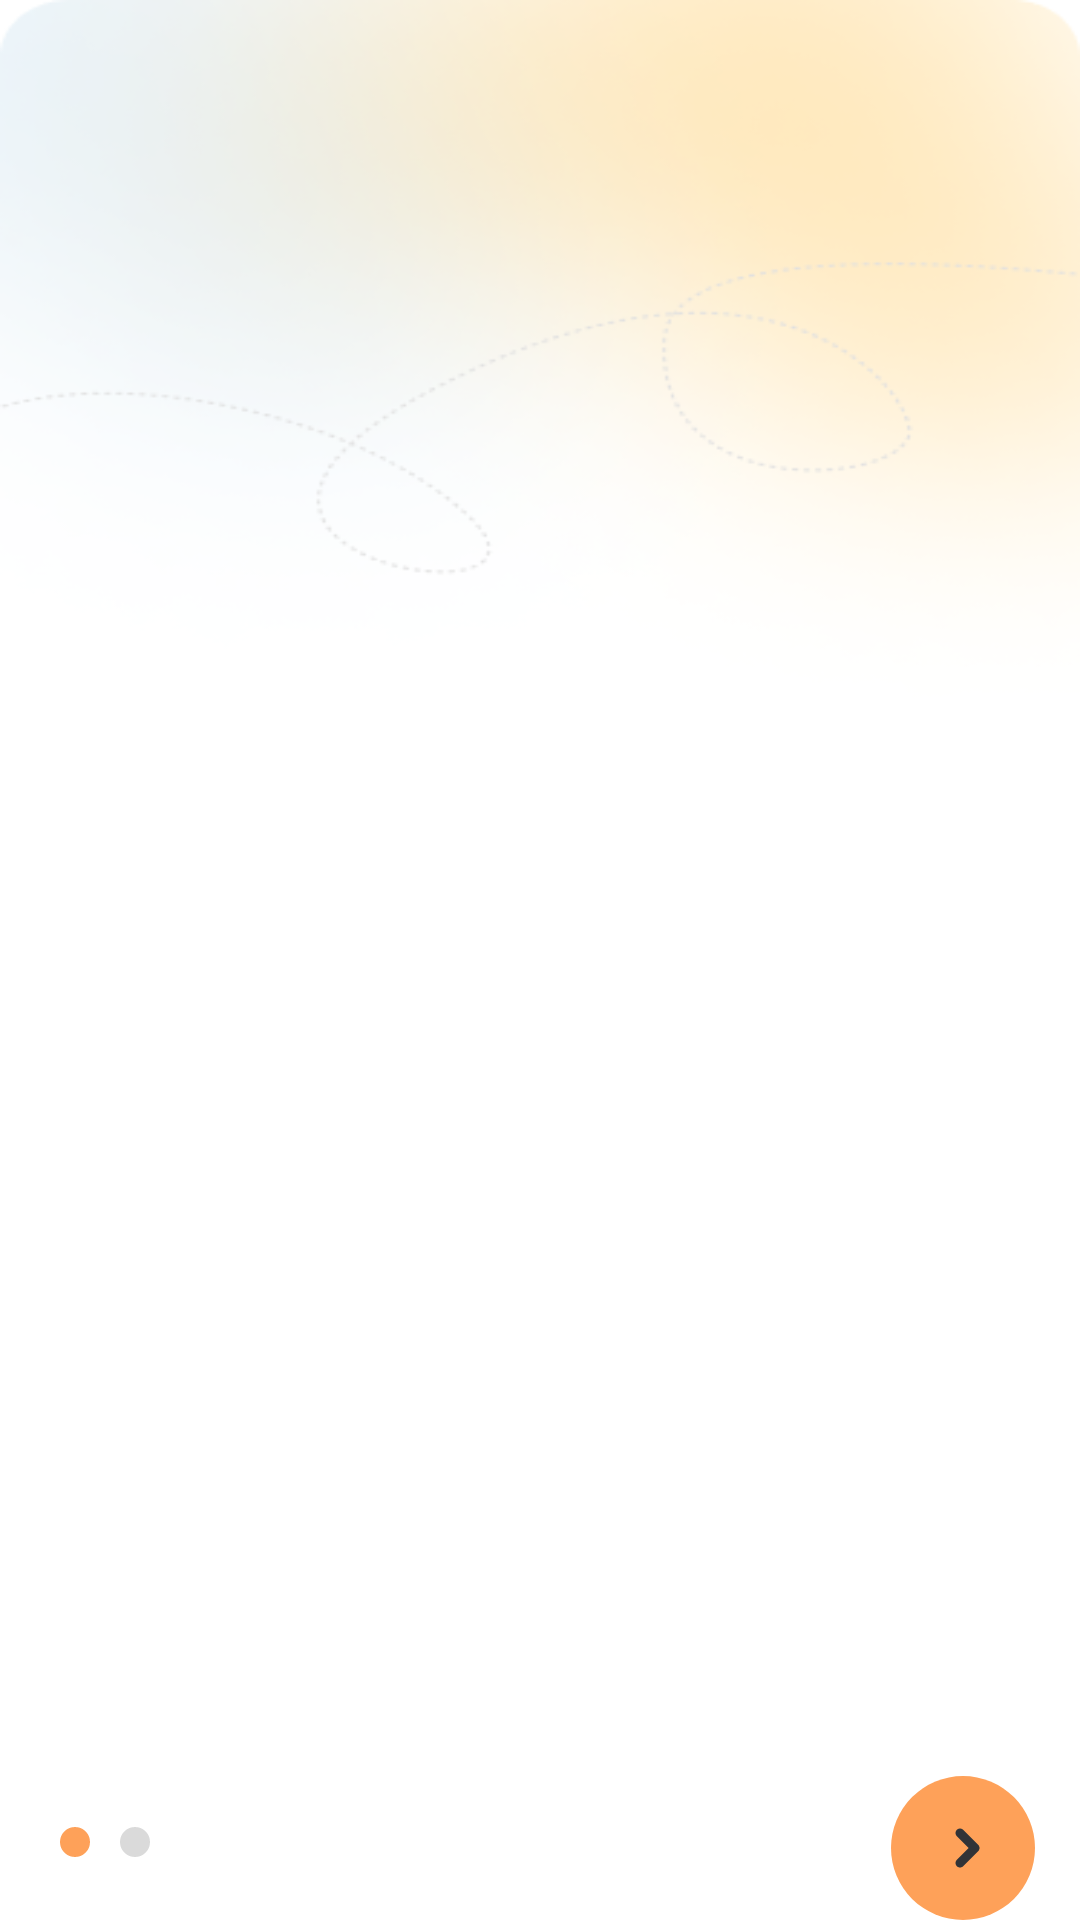

Locate icon controls on the screen. Image size 1080px x 1920px, boxes as [x1,y1,x2,y2].
roundbutton: [891,1776,1035,1920]
